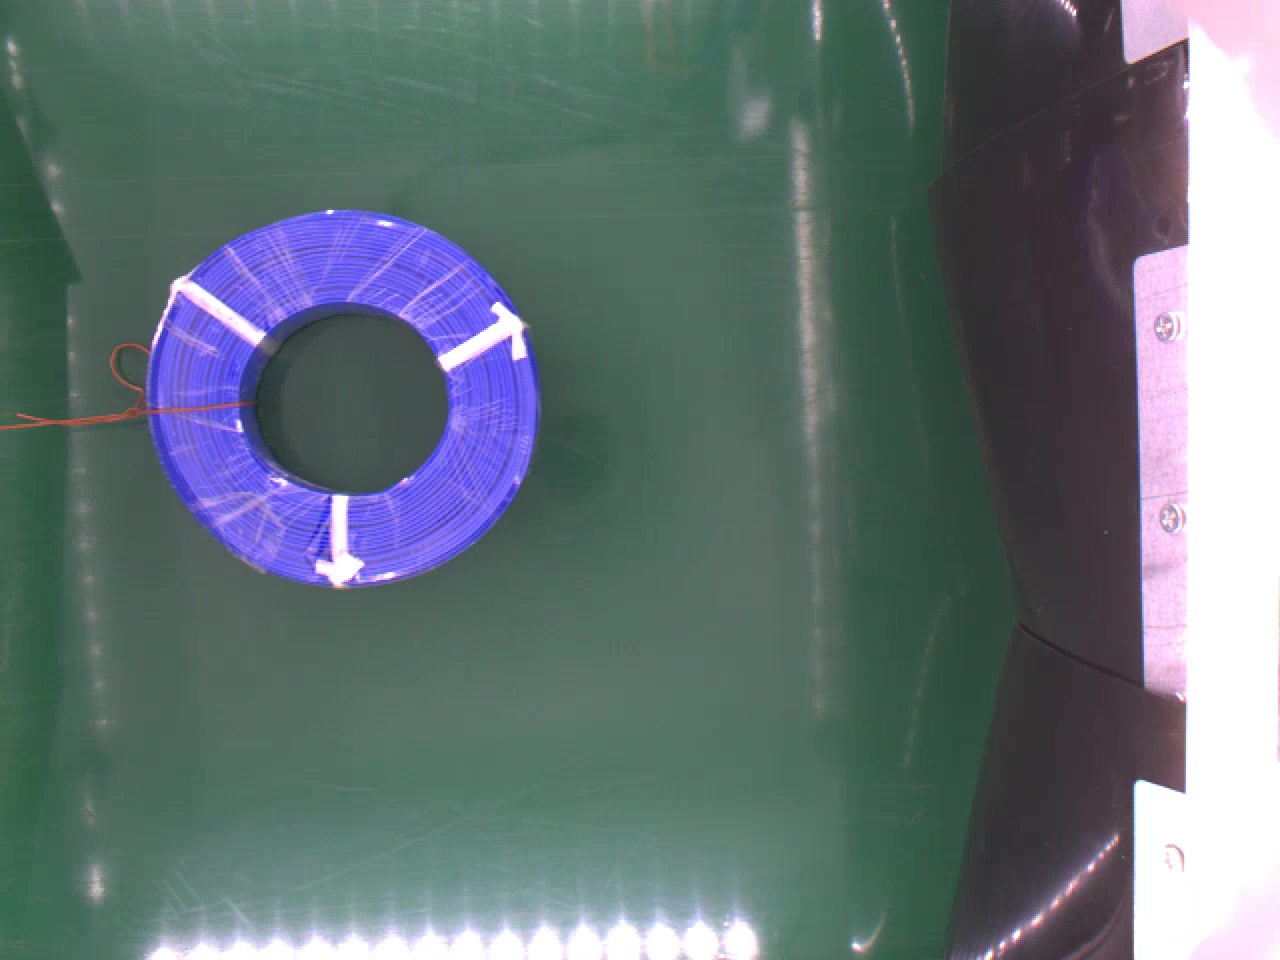blue: (149, 203, 541, 589)
